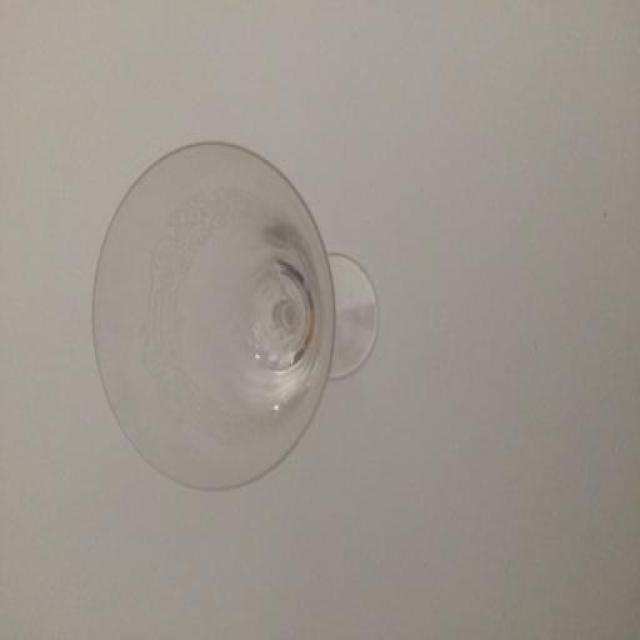Glass: (61, 99, 484, 527)
